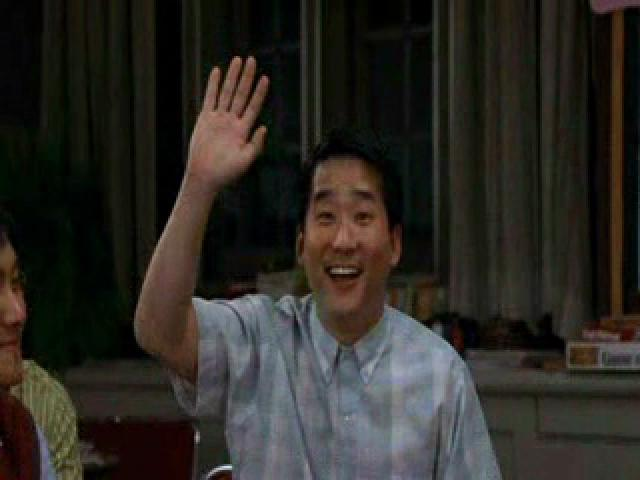T: (120, 41, 508, 480)
